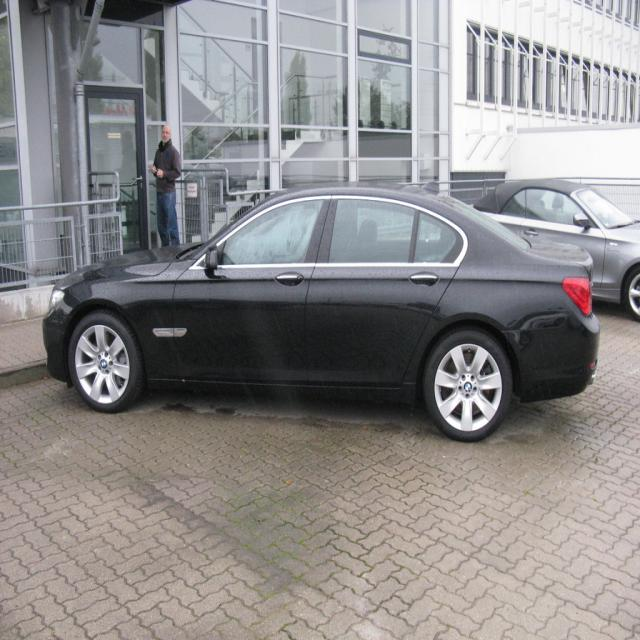car: (19, 177, 599, 441), (469, 180, 639, 322)
